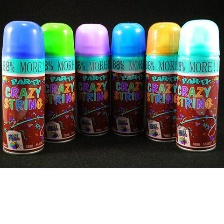aerosol_cans: (173, 15, 221, 155), (0, 18, 48, 158), (35, 17, 81, 144), (142, 19, 187, 146), (69, 19, 111, 140), (106, 20, 147, 138)
